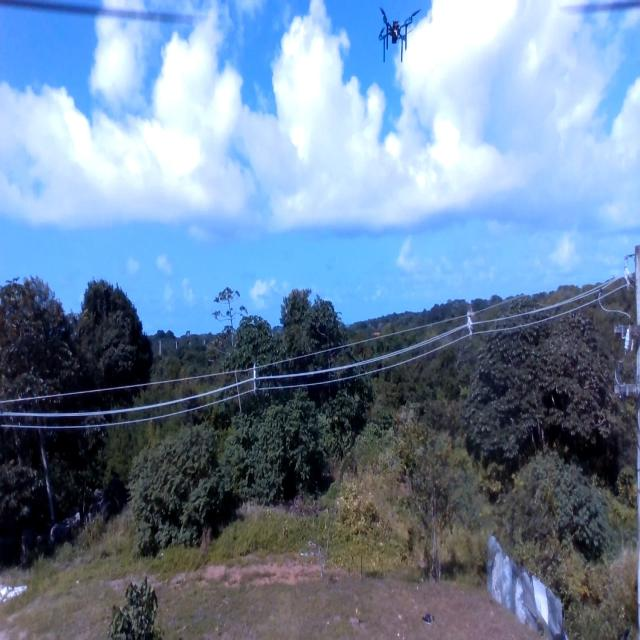-uav-: (372, 1, 426, 67)
